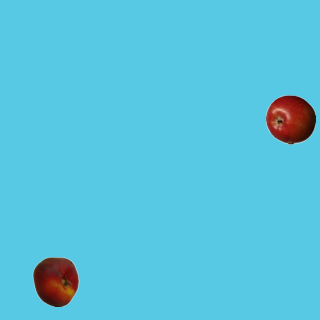Apple Braeburn: (265, 94, 315, 144)
Nectarine Flat: (30, 256, 80, 306)
